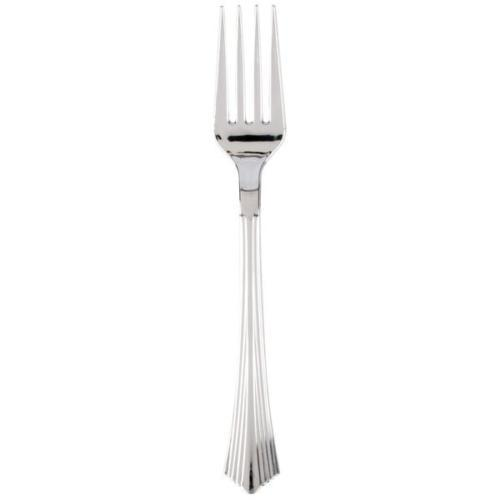Fork: (214, 4, 286, 494)
